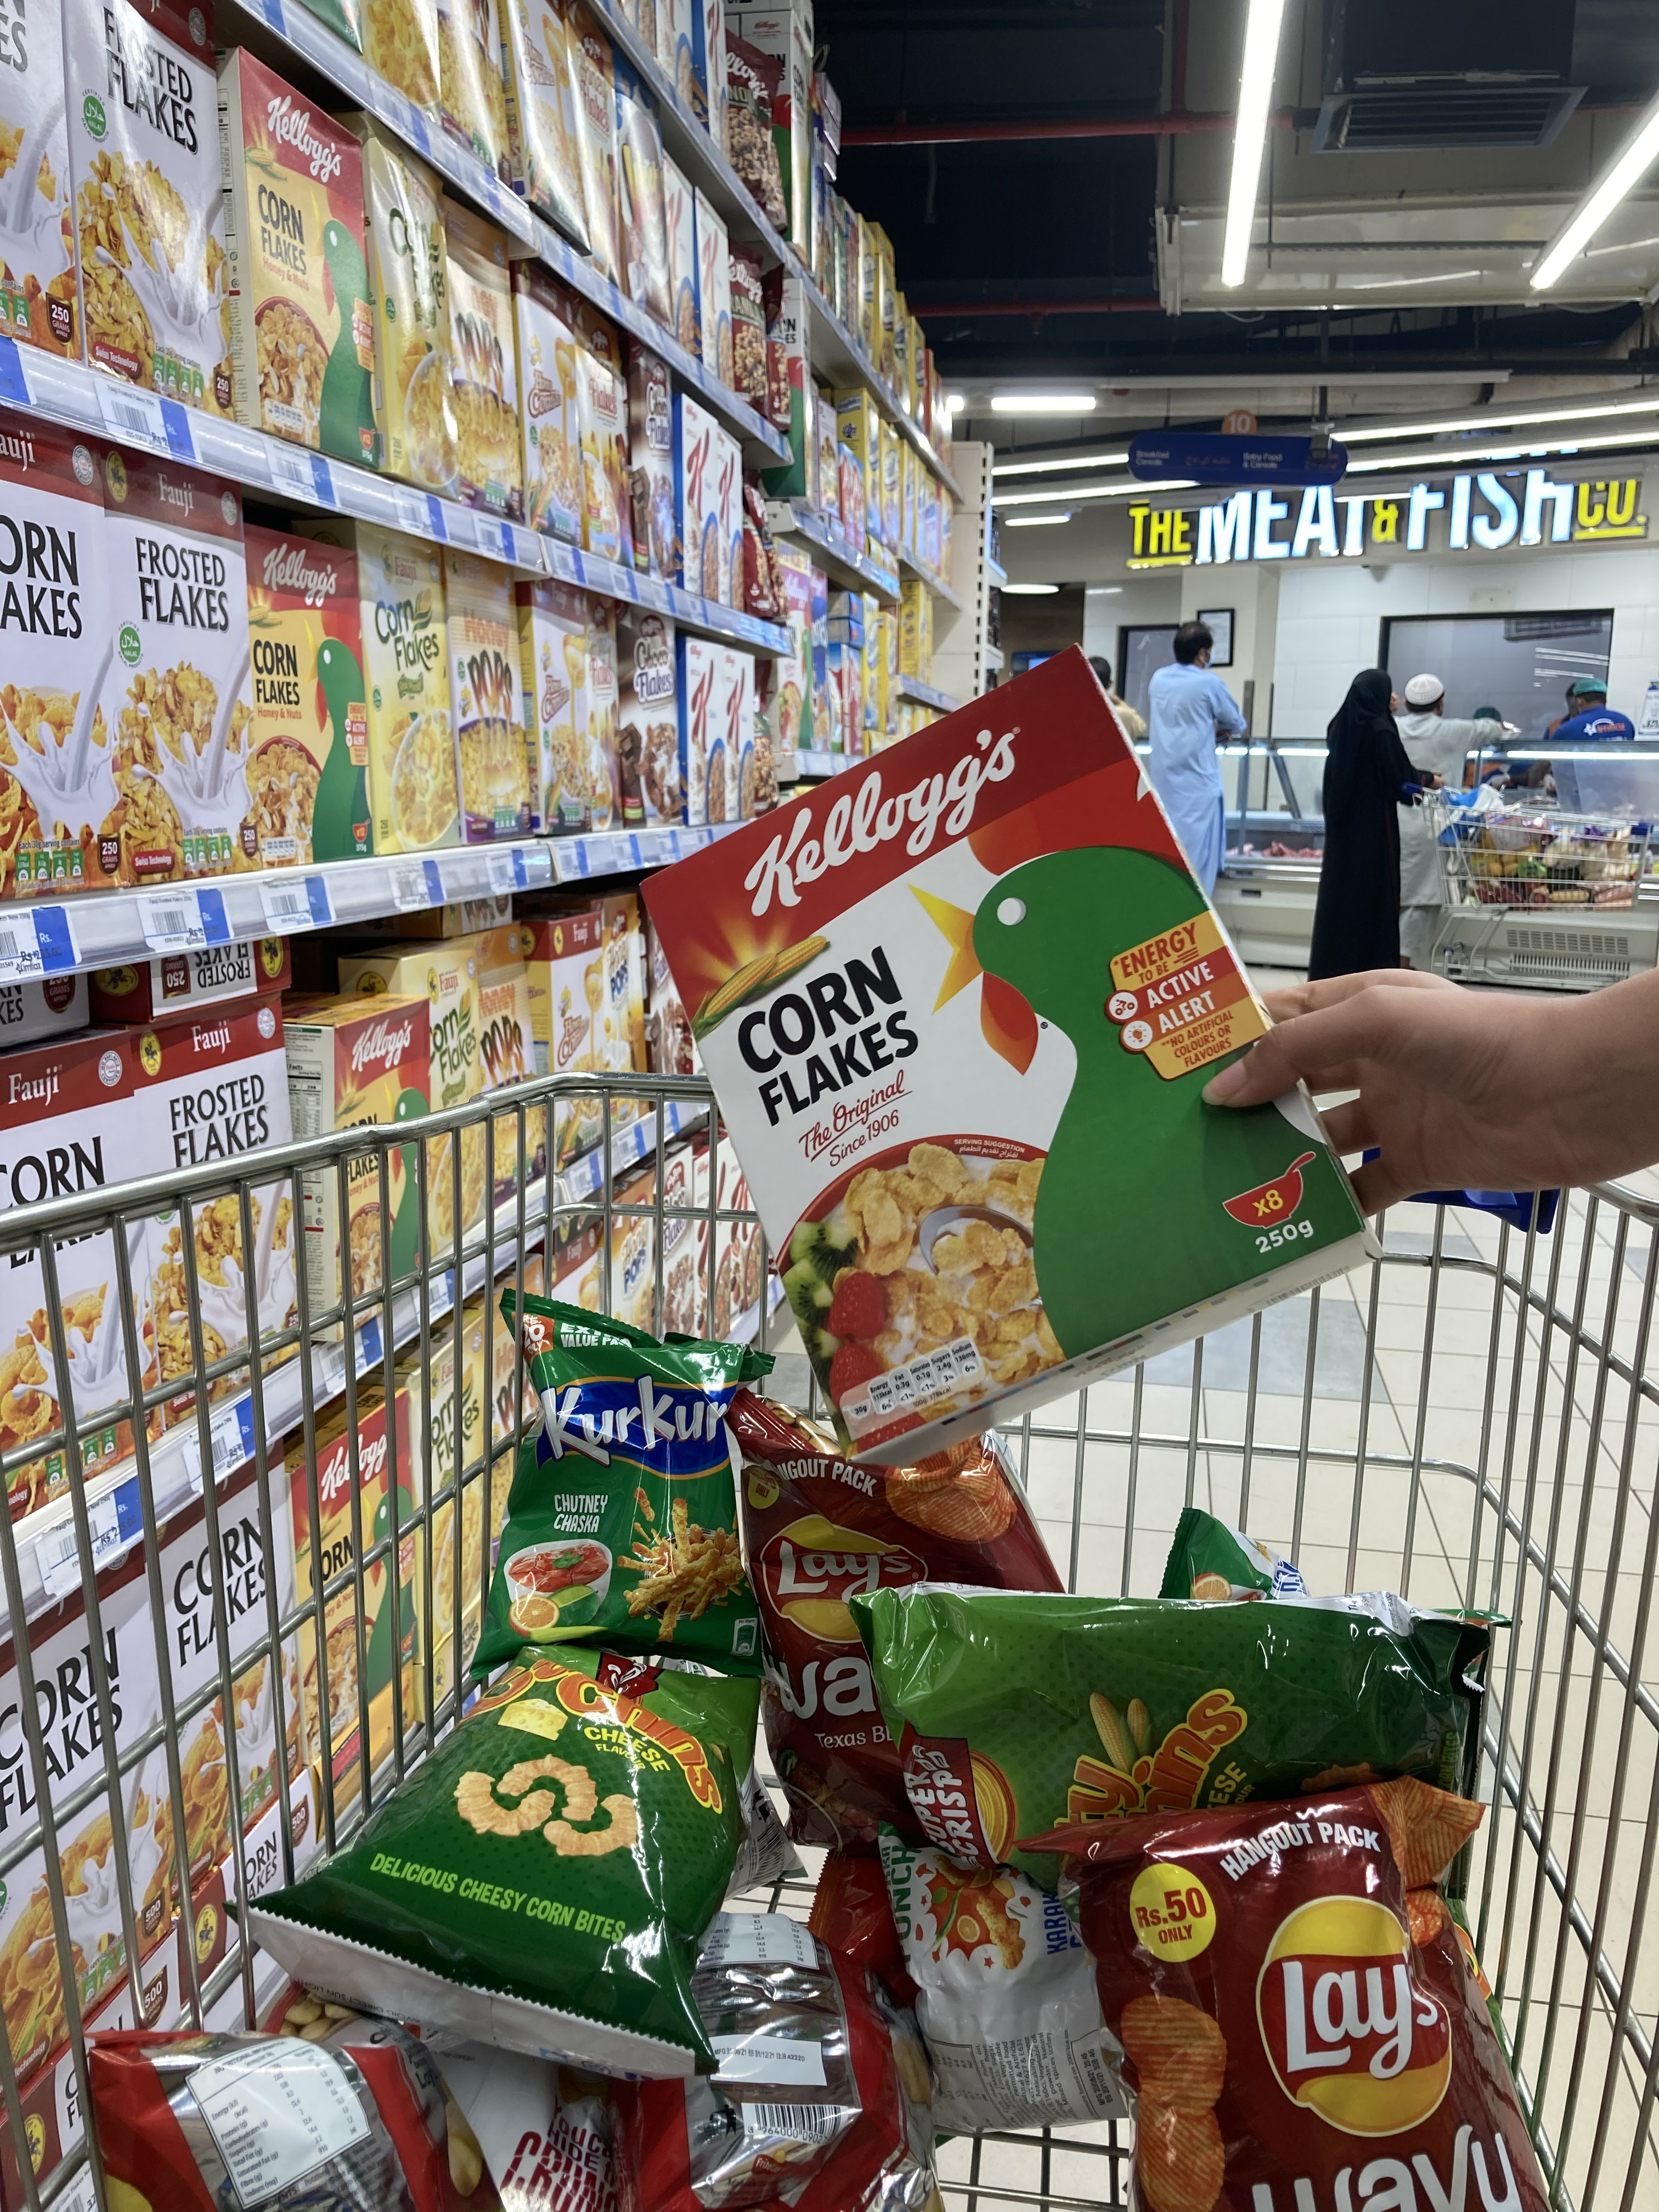Kellogg's Corn Flakes: (636, 646, 1405, 1467)
